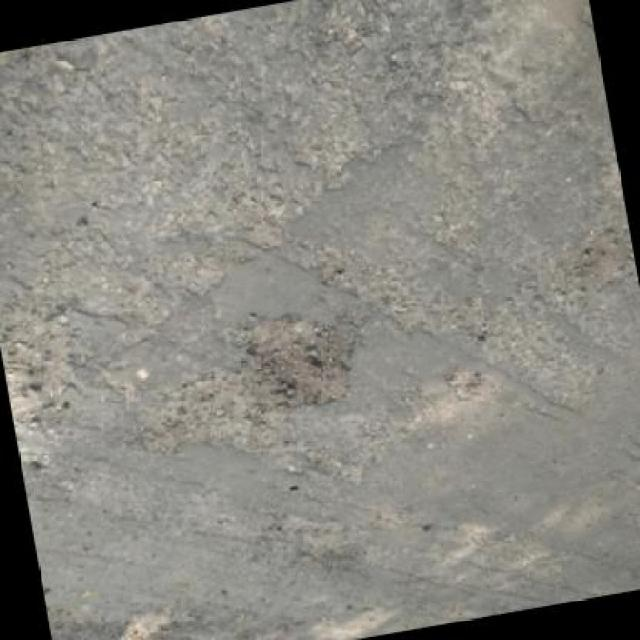pothole1: (239, 302, 372, 422)
